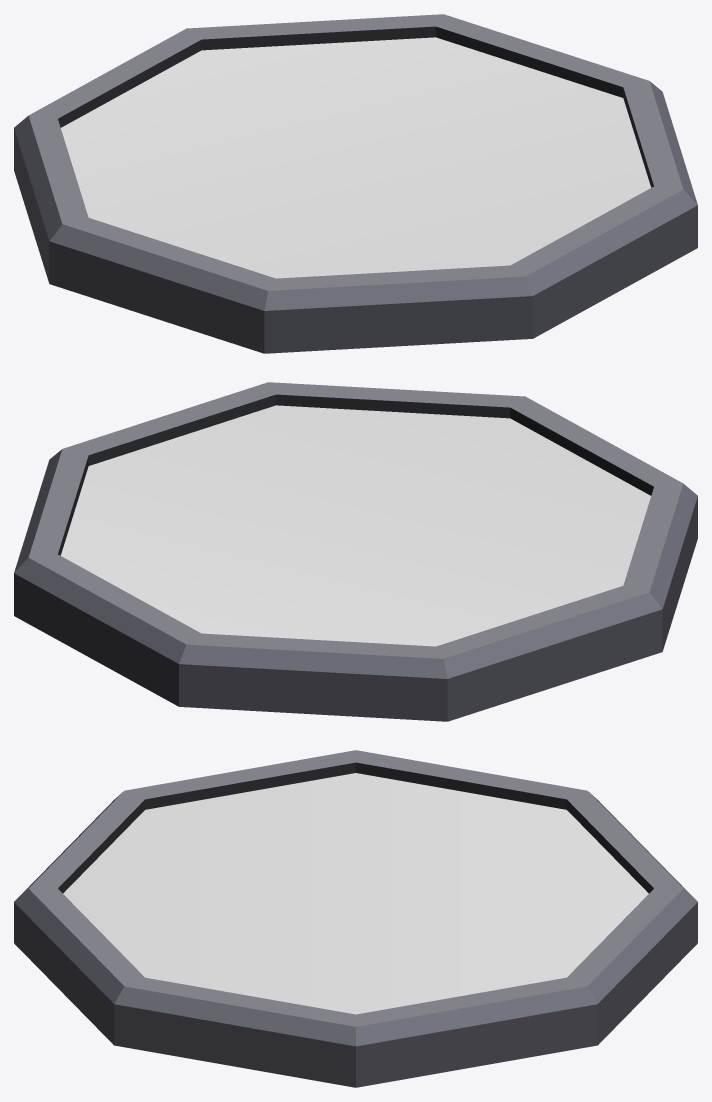
File: Light_04.glb
3 views of the same model, one above another, from view 1: azimuth 30°, elevation 25°; view 2: azimuth 150°, elevation 25°; view 3: azimuth 270°, elevation 25° (orthographic). The views are drawn at different scales.
Parts seen in each view (by area): view 1: Light_04; view 2: Light_04; view 3: Light_04.
Part boxes in pixels (<box>): Light_04: <box>14,14,697,353</box>; Light_04: <box>14,382,697,721</box>; Light_04: <box>14,750,697,1087</box>.
Size of what is drawn, in the model's own units: 2 by 0.1768 by 2.
Materials: 1 (1 with a texture image).
